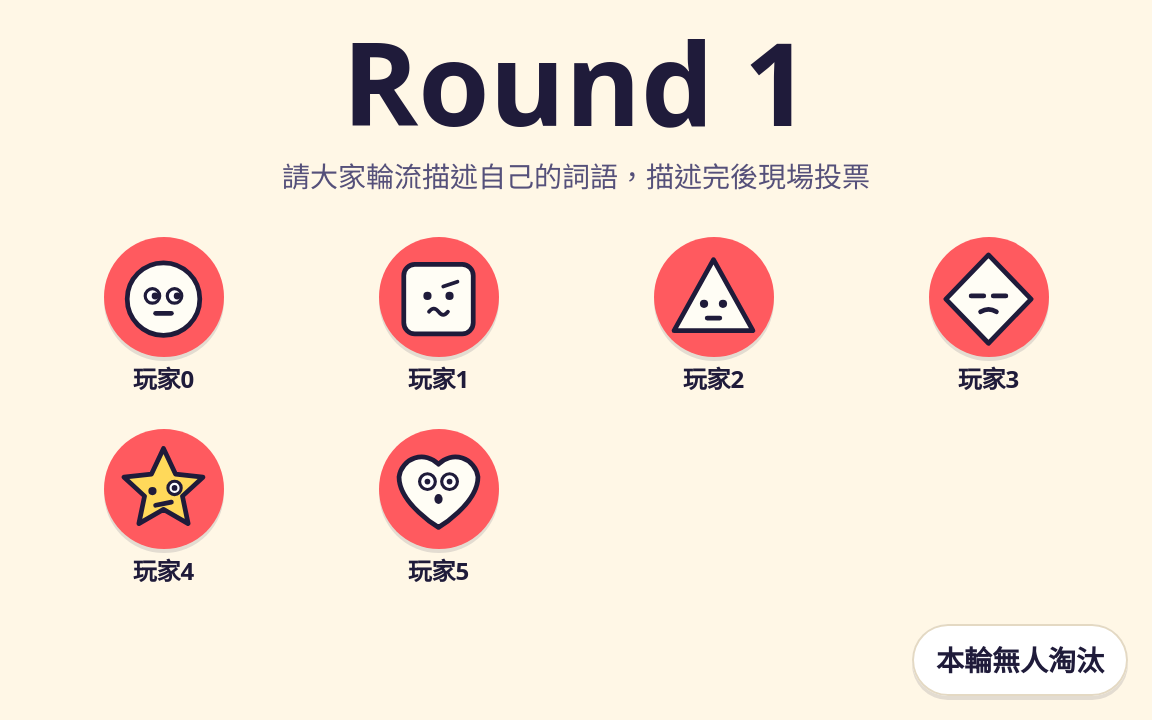
Test case: HostPlaying screen › does not eliminate on click, it asks first without any role info
The image size is (1152, 720).
Check: the heading "Round 1" is shown, box [342,24,810,139]
Click the button "玩家2" at (714, 317), box [646,229,782,405]
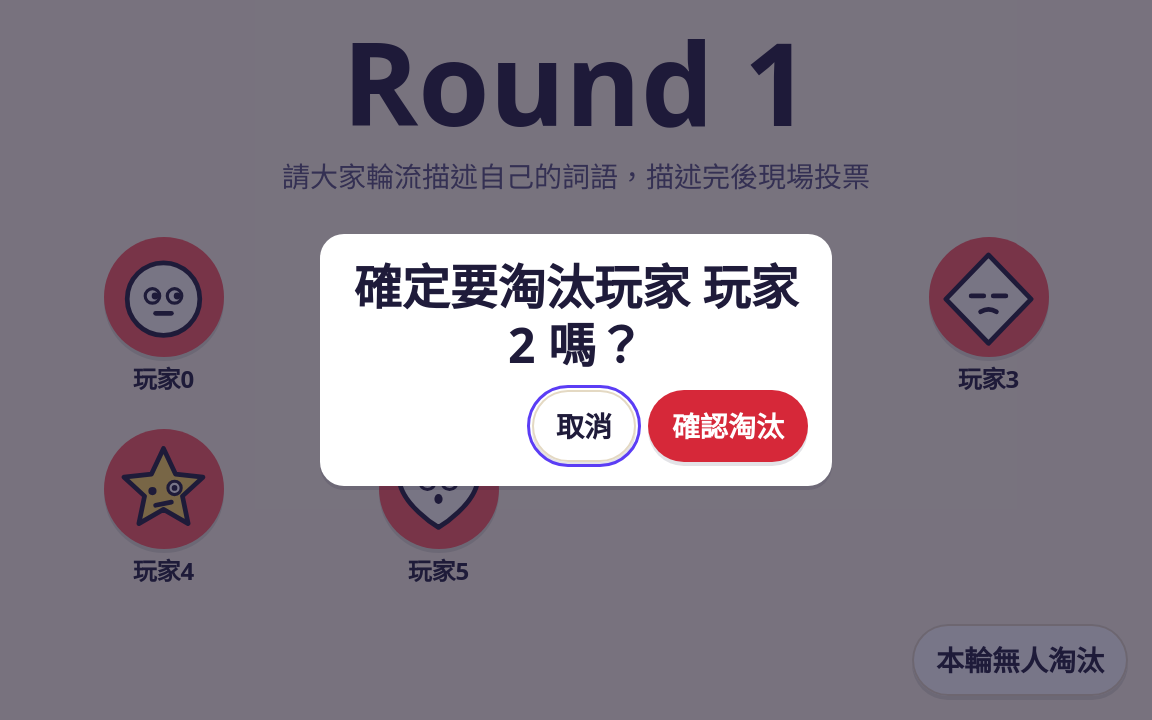
Check: the heading "確定要淘汰玩家 玩家2 嗎？" is shown, box [344,258,808,374]
